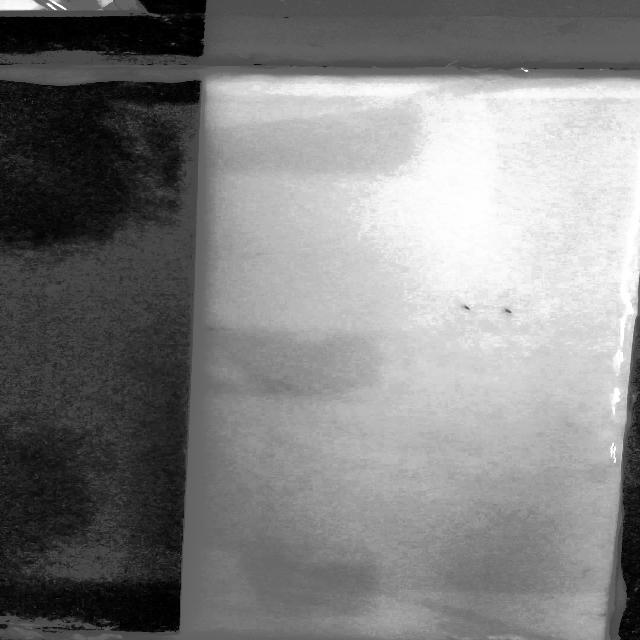shrimp: (493, 304, 527, 320), (449, 300, 478, 315), (198, 322, 224, 338)
